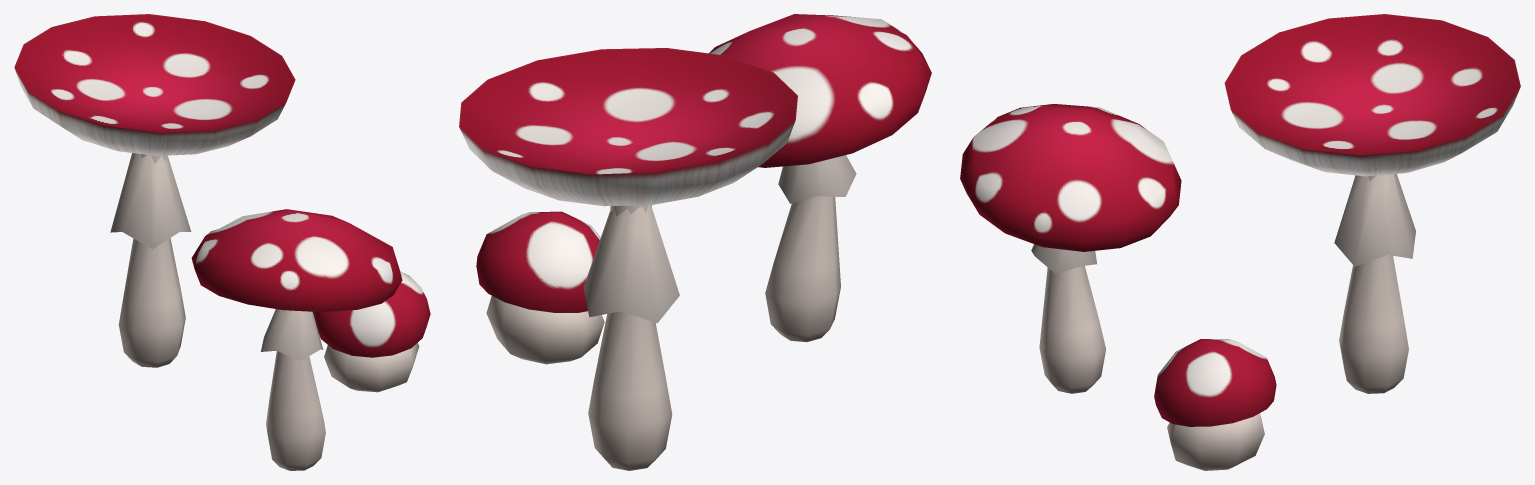
Rendered from Fly_Agaric_Group_2.fbx.
3 renders of one model, left to right at view 1: azimuth 30°, elevation 25°; view 2: azimuth 150°, elevation 25°; view 3: azimuth 270°, elevation 25°, orthographic. The views are drawn at different scales.
Visible parts, largest first — view 1: Fly_Agaric_Group_2; view 2: Fly_Agaric_Group_2; view 3: Fly_Agaric_Group_2.
Boxes of the visible parts, left/top/right/bottom form: Fly_Agaric_Group_2: left=14, top=14, right=430, bottom=470; Fly_Agaric_Group_2: left=459, top=14, right=931, bottom=470; Fly_Agaric_Group_2: left=960, top=14, right=1520, bottom=470.
Bounding box in the file's own units: 24.77 × 22.23 × 36.31.
